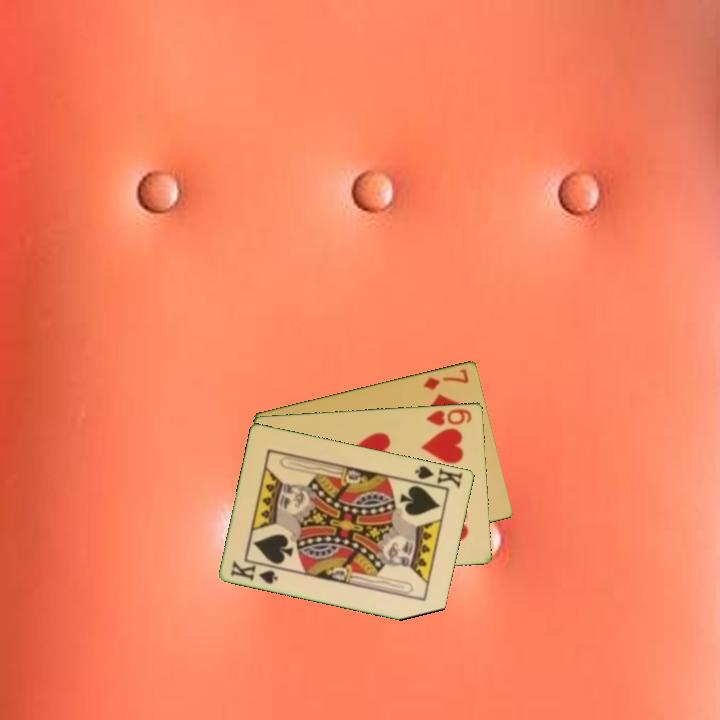6h: (423, 405, 475, 428)
7d: (420, 365, 472, 393)
Ks: (227, 557, 281, 587), (412, 462, 466, 491)
